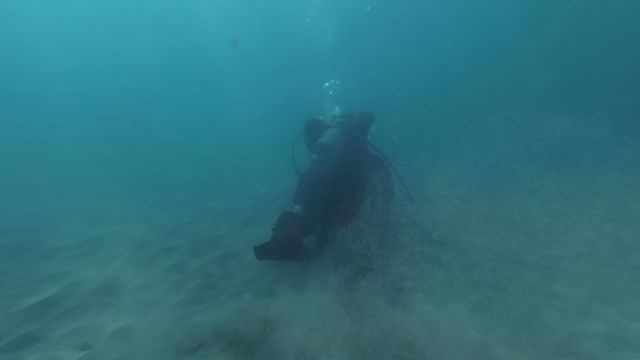Diver: (235, 95, 425, 283)
